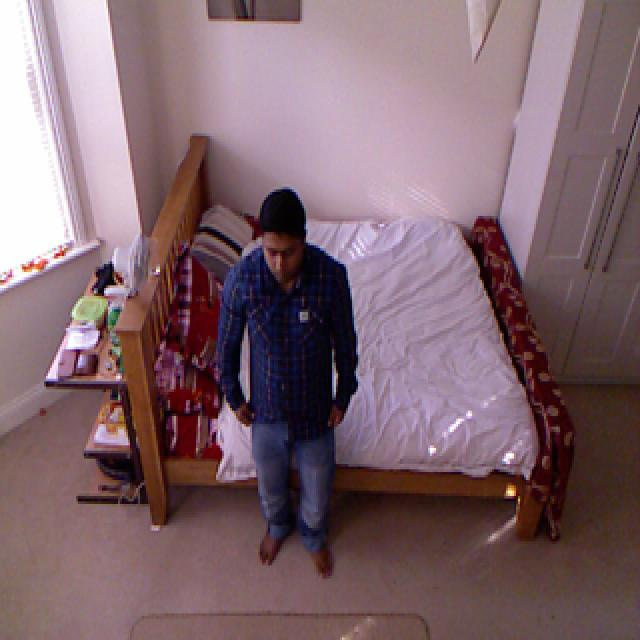standing: (218, 189, 357, 580)
